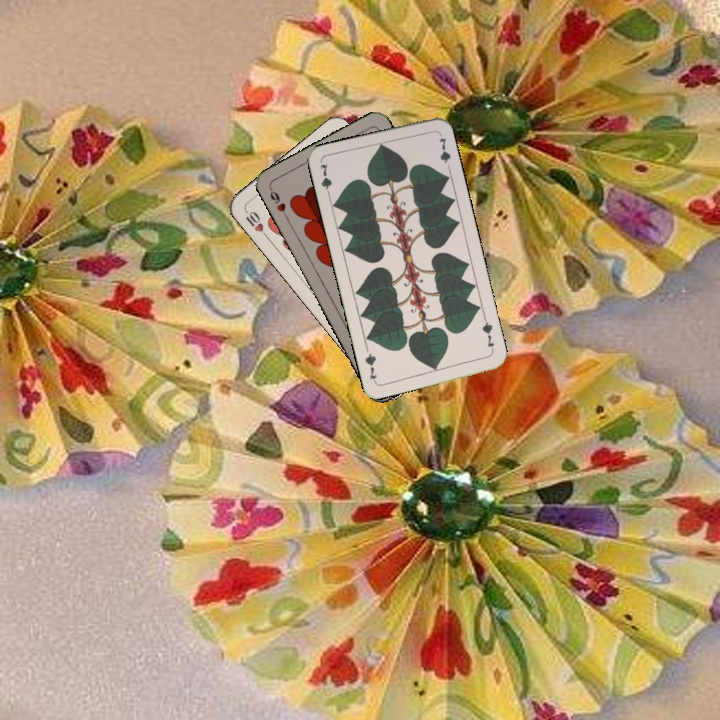G7: (478, 314, 497, 354), (316, 159, 334, 200)
H10: (241, 206, 270, 240)
H9: (266, 184, 290, 222)
